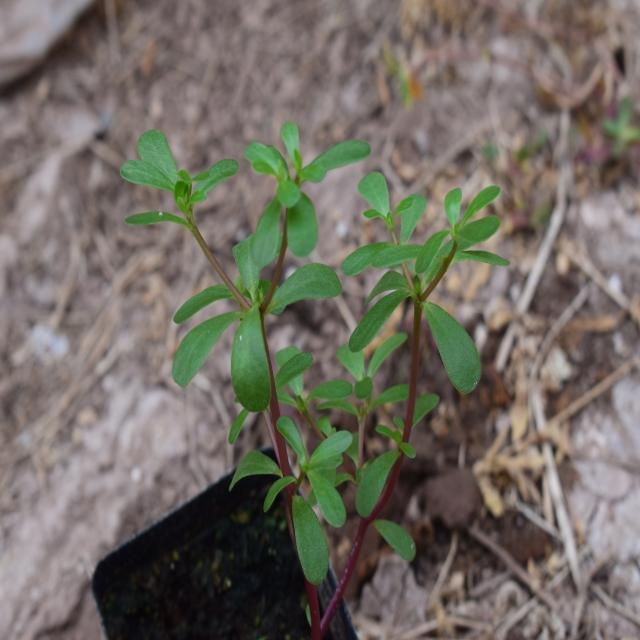purslane: (125, 107, 518, 549)
